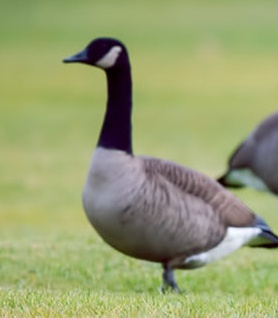goose: (53, 30, 278, 297)
